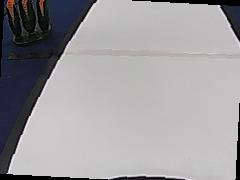corn: (4, 0, 56, 44)
